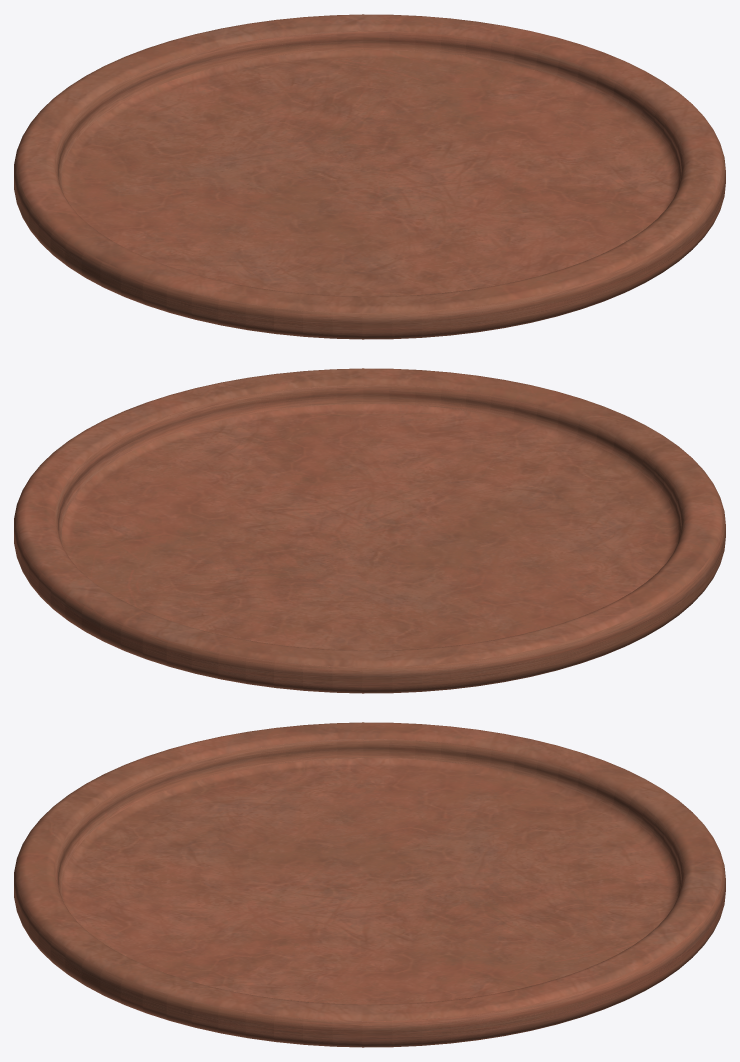
The model's file is coaster2.glb.
3 renders of one model, top to bottom at view 1: azimuth 30°, elevation 25°; view 2: azimuth 150°, elevation 25°; view 3: azimuth 270°, elevation 25°, orthographic.
Parts seen in each view (by area): view 1: Cylinder; view 2: Cylinder; view 3: Cylinder.
Part boxes in pixels (x1=…): Cylinder: x1=14, y1=14, x2=725, y2=339; Cylinder: x1=14, y1=368, x2=725, y2=693; Cylinder: x1=14, y1=722, x2=725, y2=1047.
Bounding box in the file's own units: 4 × 0.2 × 4.
1 material, 1 textured.
